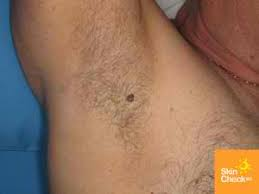mole: (120, 87, 142, 106)
